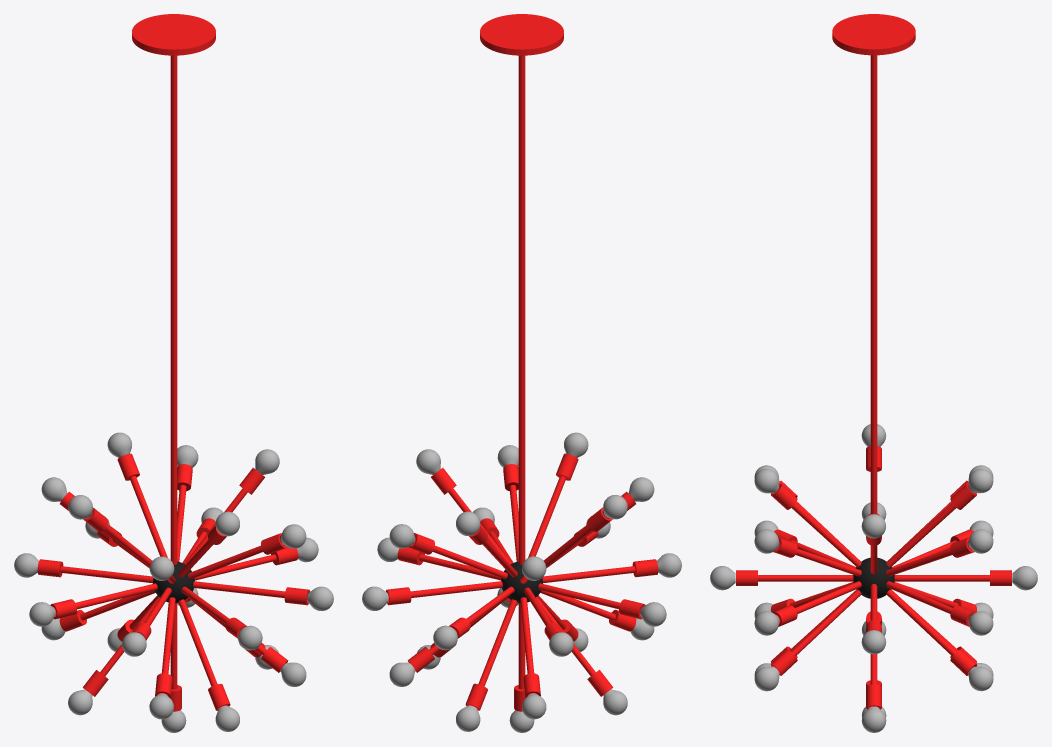
Rendered from BP_hanging_lights_multipoint.FBX.
3 views of the same model, side by side, from view 1: azimuth 30°, elevation 25°; view 2: azimuth 150°, elevation 25°; view 3: azimuth 270°, elevation 25° (orthographic).
Parts seen in each view (by area): view 1: Group2381, Standard01, Hanging light multipoint; view 2: Group2381, Standard01, Hanging light multipoint; view 3: Group2381, Standard01, Hanging light multipoint.
Part boxes in pixels (box(x1,y1,x2,y2)): Group2381: box(37, 14, 309, 711); Standard01: box(14, 432, 333, 732); Hanging light multipoint: box(153, 561, 194, 603); Group2381: box(386, 14, 658, 711); Standard01: box(362, 432, 681, 732); Hanging light multipoint: box(501, 561, 542, 602); Group2381: box(736, 14, 1011, 709); Standard01: box(710, 424, 1037, 732); Hanging light multipoint: box(853, 557, 894, 598).
Size of the model in its own units: 23.17 by 54.22 by 23.17.
